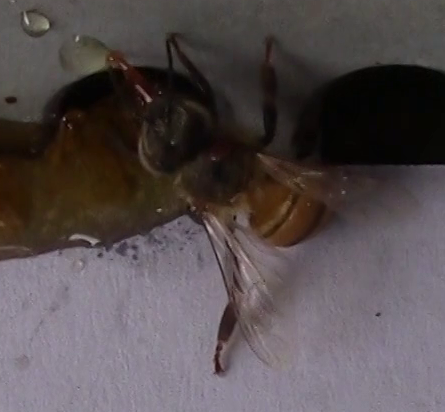Varroa destructor: (206, 136, 236, 160)
